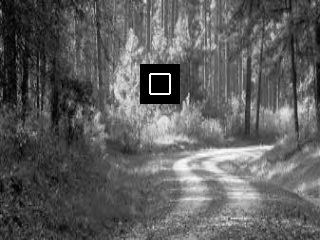square: (140, 64, 180, 104)
